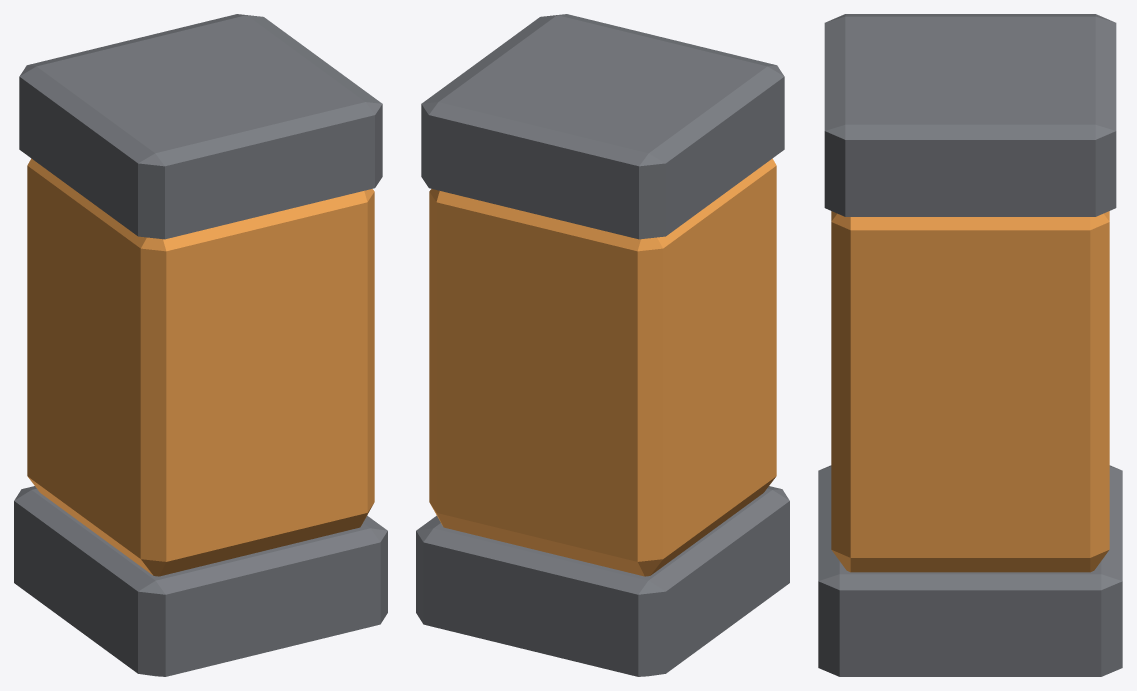
The model's file is b20_channel_marker_buoy.glb.
The picture shows the model from 3 angles, left to right: view 1: azimuth 30°, elevation 25°; view 2: azimuth 150°, elevation 25°; view 3: azimuth 270°, elevation 25°; orthographic projection. The views are drawn at different scales.
Parts seen in each view (by area): view 1: b20_channel_marker_buoy; view 2: b20_channel_marker_buoy; view 3: b20_channel_marker_buoy.
Part boxes in pixels (x1,y1,x2,y2): b20_channel_marker_buoy: (14,14,387,676); b20_channel_marker_buoy: (416,14,789,676); b20_channel_marker_buoy: (818,14,1122,676).
Bounding box in the file's own units: 0.899 × 1.79 × 0.899.
